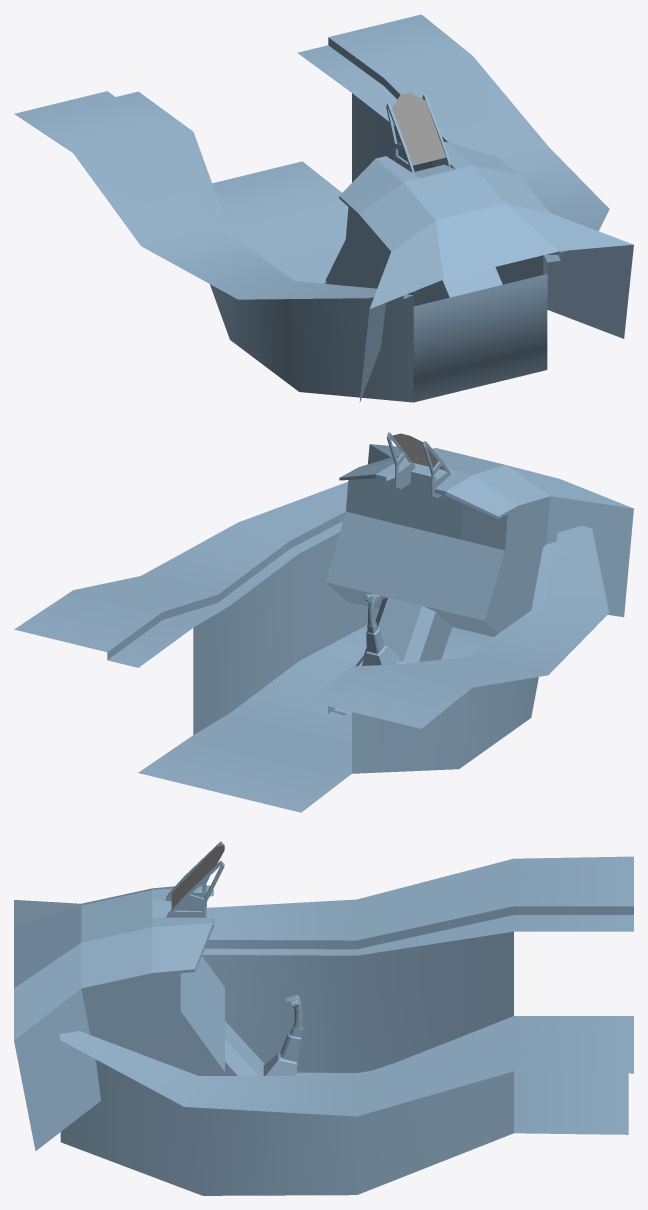
The model's file is control.FBX.
3 renders of one model, top to bottom at view 1: azimuth 30°, elevation 25°; view 2: azimuth 150°, elevation 25°; view 3: azimuth 270°, elevation 25°, orthographic. The views are drawn at different scales.
Parts seen in each view (by area): view 1: Box02; view 2: Box02; view 3: Box02.
Boxes of the visible parts, x1,y1,x2,y2 form: Box02: [14, 14, 633, 402]; Box02: [14, 432, 633, 812]; Box02: [14, 841, 633, 1195].
Size of the model in its own units: 0.0567 by 0.0685 by 0.0356.
